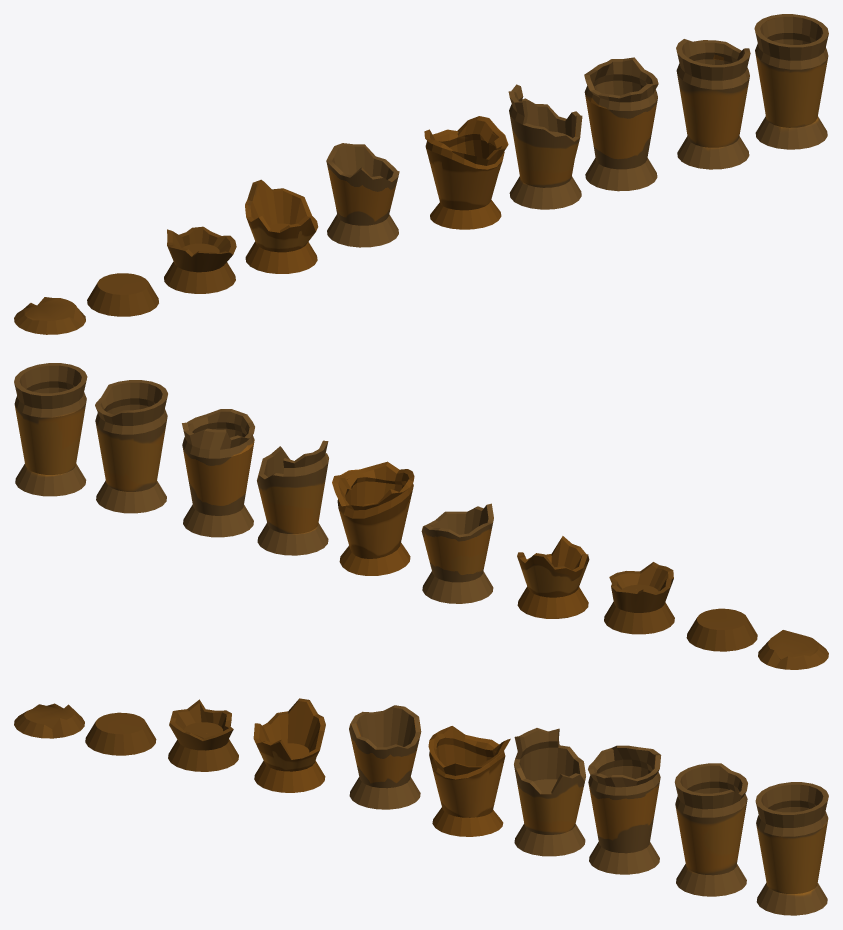
File: vases.fbx
The picture shows the model from 3 angles, top to bottom: view 1: azimuth 30°, elevation 25°; view 2: azimuth 150°, elevation 25°; view 3: azimuth 330°, elevation 25°; orthographic projection.
Parts seen in each view (by area): view 1: vase, vase.001, vase2, vase2.001, vase1, vase1.001, vase3, vase3.001, vase3.002, vase3.003; view 2: vase, vase.001, vase2, vase2.001, vase1, vase1.001, vase3, vase3.001, vase3.002, vase3.003; view 3: vase, vase.001, vase2, vase1, vase2.001, vase1.001, vase3, vase3.001, vase3.002, vase3.003.
Boxes of the visible parts, x1=… form: vase: x1=754, y1=14, x2=828, y2=149; vase.001: x1=676, y1=39, x2=750, y2=169; vase2: x1=584, y1=57, x2=658, y2=191; vase2.001: x1=424, y1=116, x2=508, y2=229; vase1: x1=508, y1=84, x2=582, y2=209; vase1.001: x1=326, y1=143, x2=399, y2=247; vase3: x1=245, y1=179, x2=318, y2=273; vase3.001: x1=164, y1=226, x2=236, y2=293; vase3.002: x1=87, y1=273, x2=158, y2=316; vase3.003: x1=14, y1=297, x2=85, y2=334; vase: x1=14, y1=363, x2=87, y2=496; vase.001: x1=95, y1=380, x2=167, y2=513; vase2: x1=182, y1=409, x2=254, y2=537; vase2.001: x1=332, y1=461, x2=414, y2=575; vase1: x1=257, y1=440, x2=328, y2=555; vase1.001: x1=421, y1=503, x2=493, y2=603; vase3: x1=517, y1=536, x2=589, y2=618; vase3.001: x1=604, y1=562, x2=674, y2=634; vase3.002: x1=686, y1=608, x2=757, y2=651; vase3.003: x1=758, y1=630, x2=828, y2=669; vase: x1=755, y1=782, x2=828, y2=915; vase.001: x1=674, y1=763, x2=747, y2=896; vase2: x1=588, y1=745, x2=661, y2=874; vase1: x1=514, y1=728, x2=585, y2=856; vase2.001: x1=428, y1=726, x2=510, y2=836; vase1.001: x1=349, y1=705, x2=421, y2=809; vase3: x1=253, y1=698, x2=325, y2=792; vase3.001: x1=168, y1=699, x2=238, y2=771; vase3.002: x1=85, y1=712, x2=156, y2=755; vase3.003: x1=14, y1=703, x2=84, y2=738.
Size of the model in its own units: 923 by 117 by 106.
